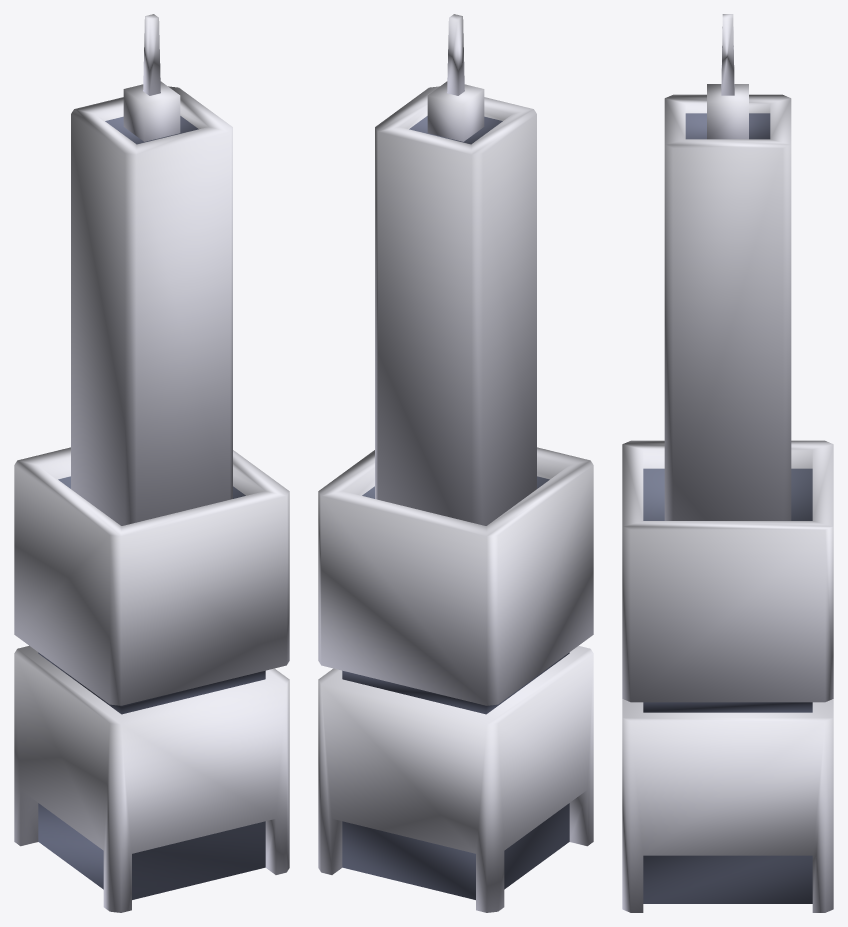
Rendered from low-detail-building-b_lev1.glb.
3 renders of one model, left to right at view 1: azimuth 30°, elevation 25°; view 2: azimuth 150°, elevation 25°; view 3: azimuth 270°, elevation 25°, orthographic.
Parts seen in each view (by area): view 1: low-detail-building-b_lev1; view 2: low-detail-building-b_lev1; view 3: low-detail-building-b_lev1.
Part boxes in pixels (<box>): low-detail-building-b_lev1: <box>14,14,289,912</box>; low-detail-building-b_lev1: <box>318,14,593,912</box>; low-detail-building-b_lev1: <box>622,14,833,912</box>.
Size of the model in its own units: 0.5 by 2.22 by 0.5.
1 material, 1 textured.
